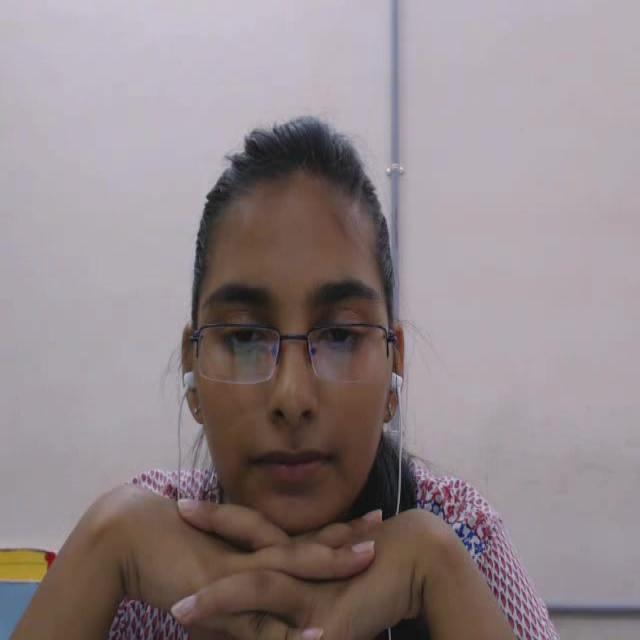Bored: (143, 80, 457, 576)
